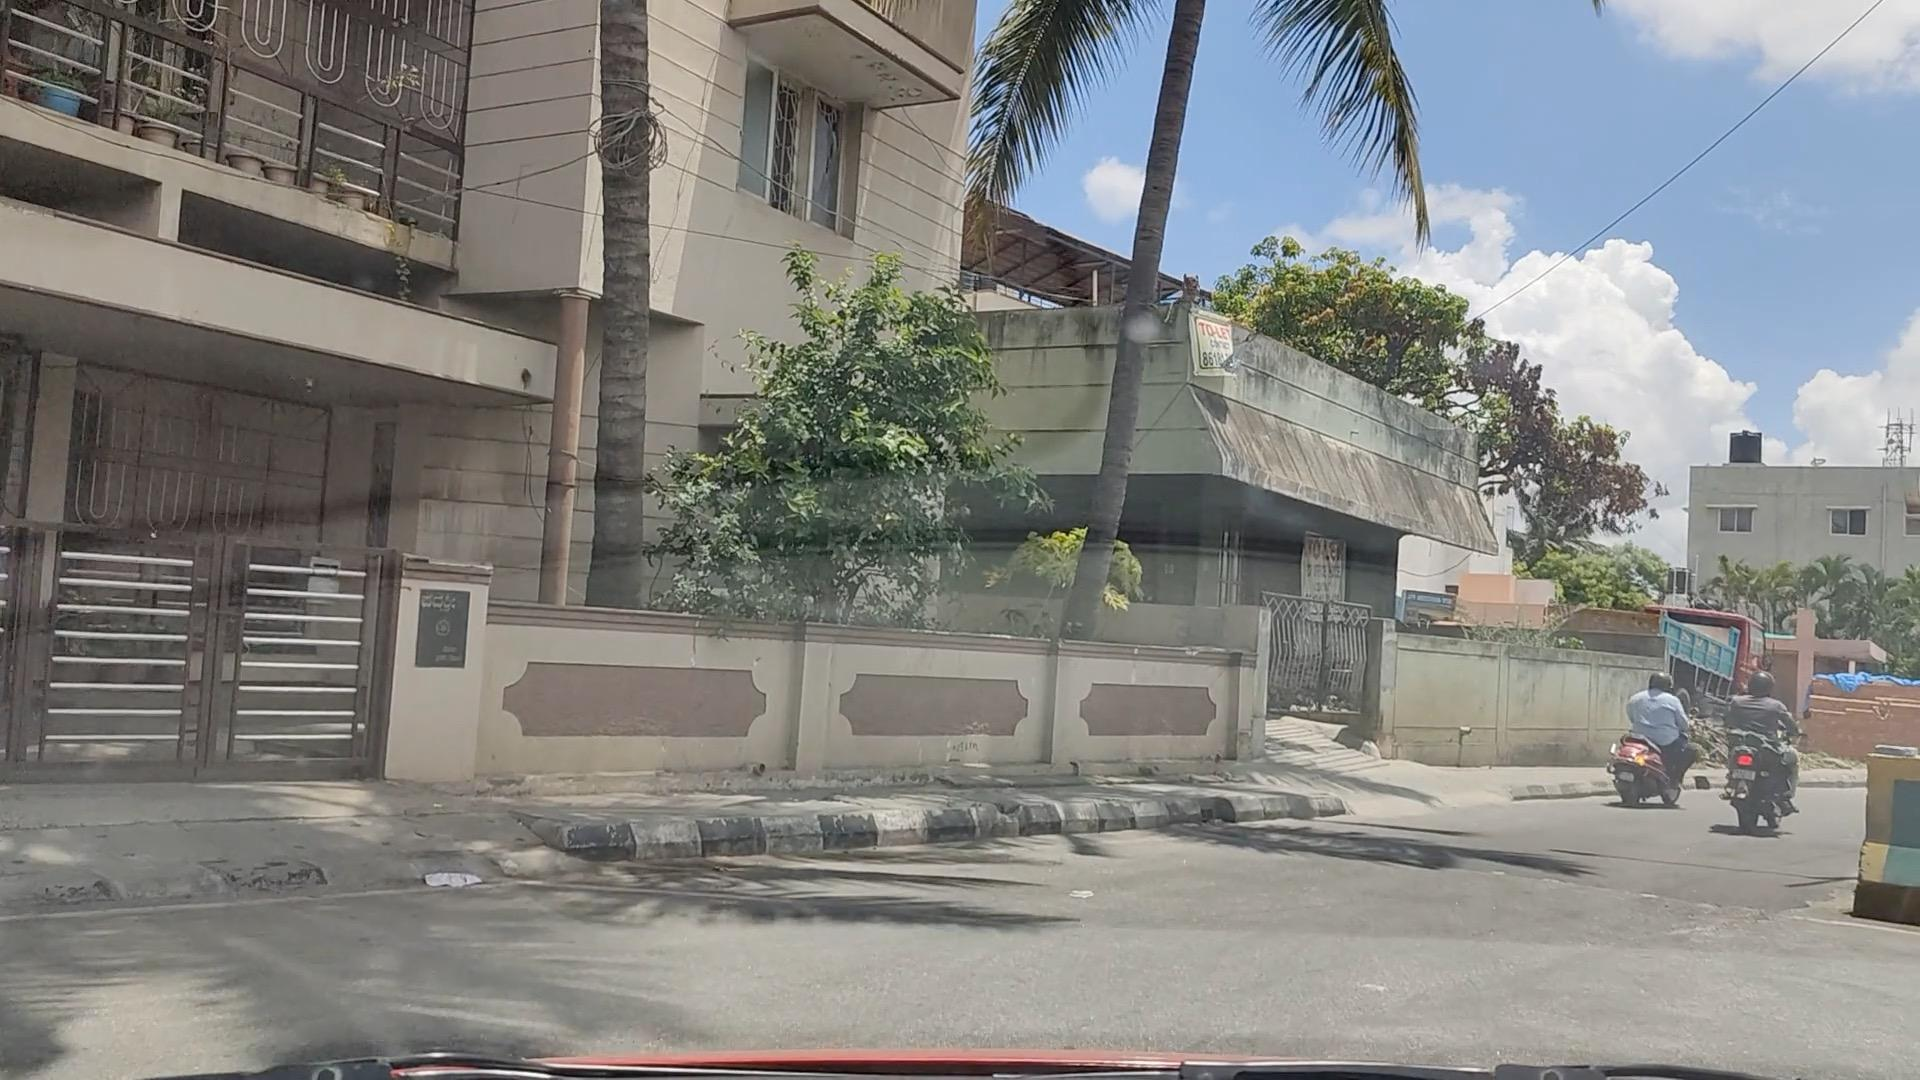RoadDamages: (1654, 853, 1812, 964)
